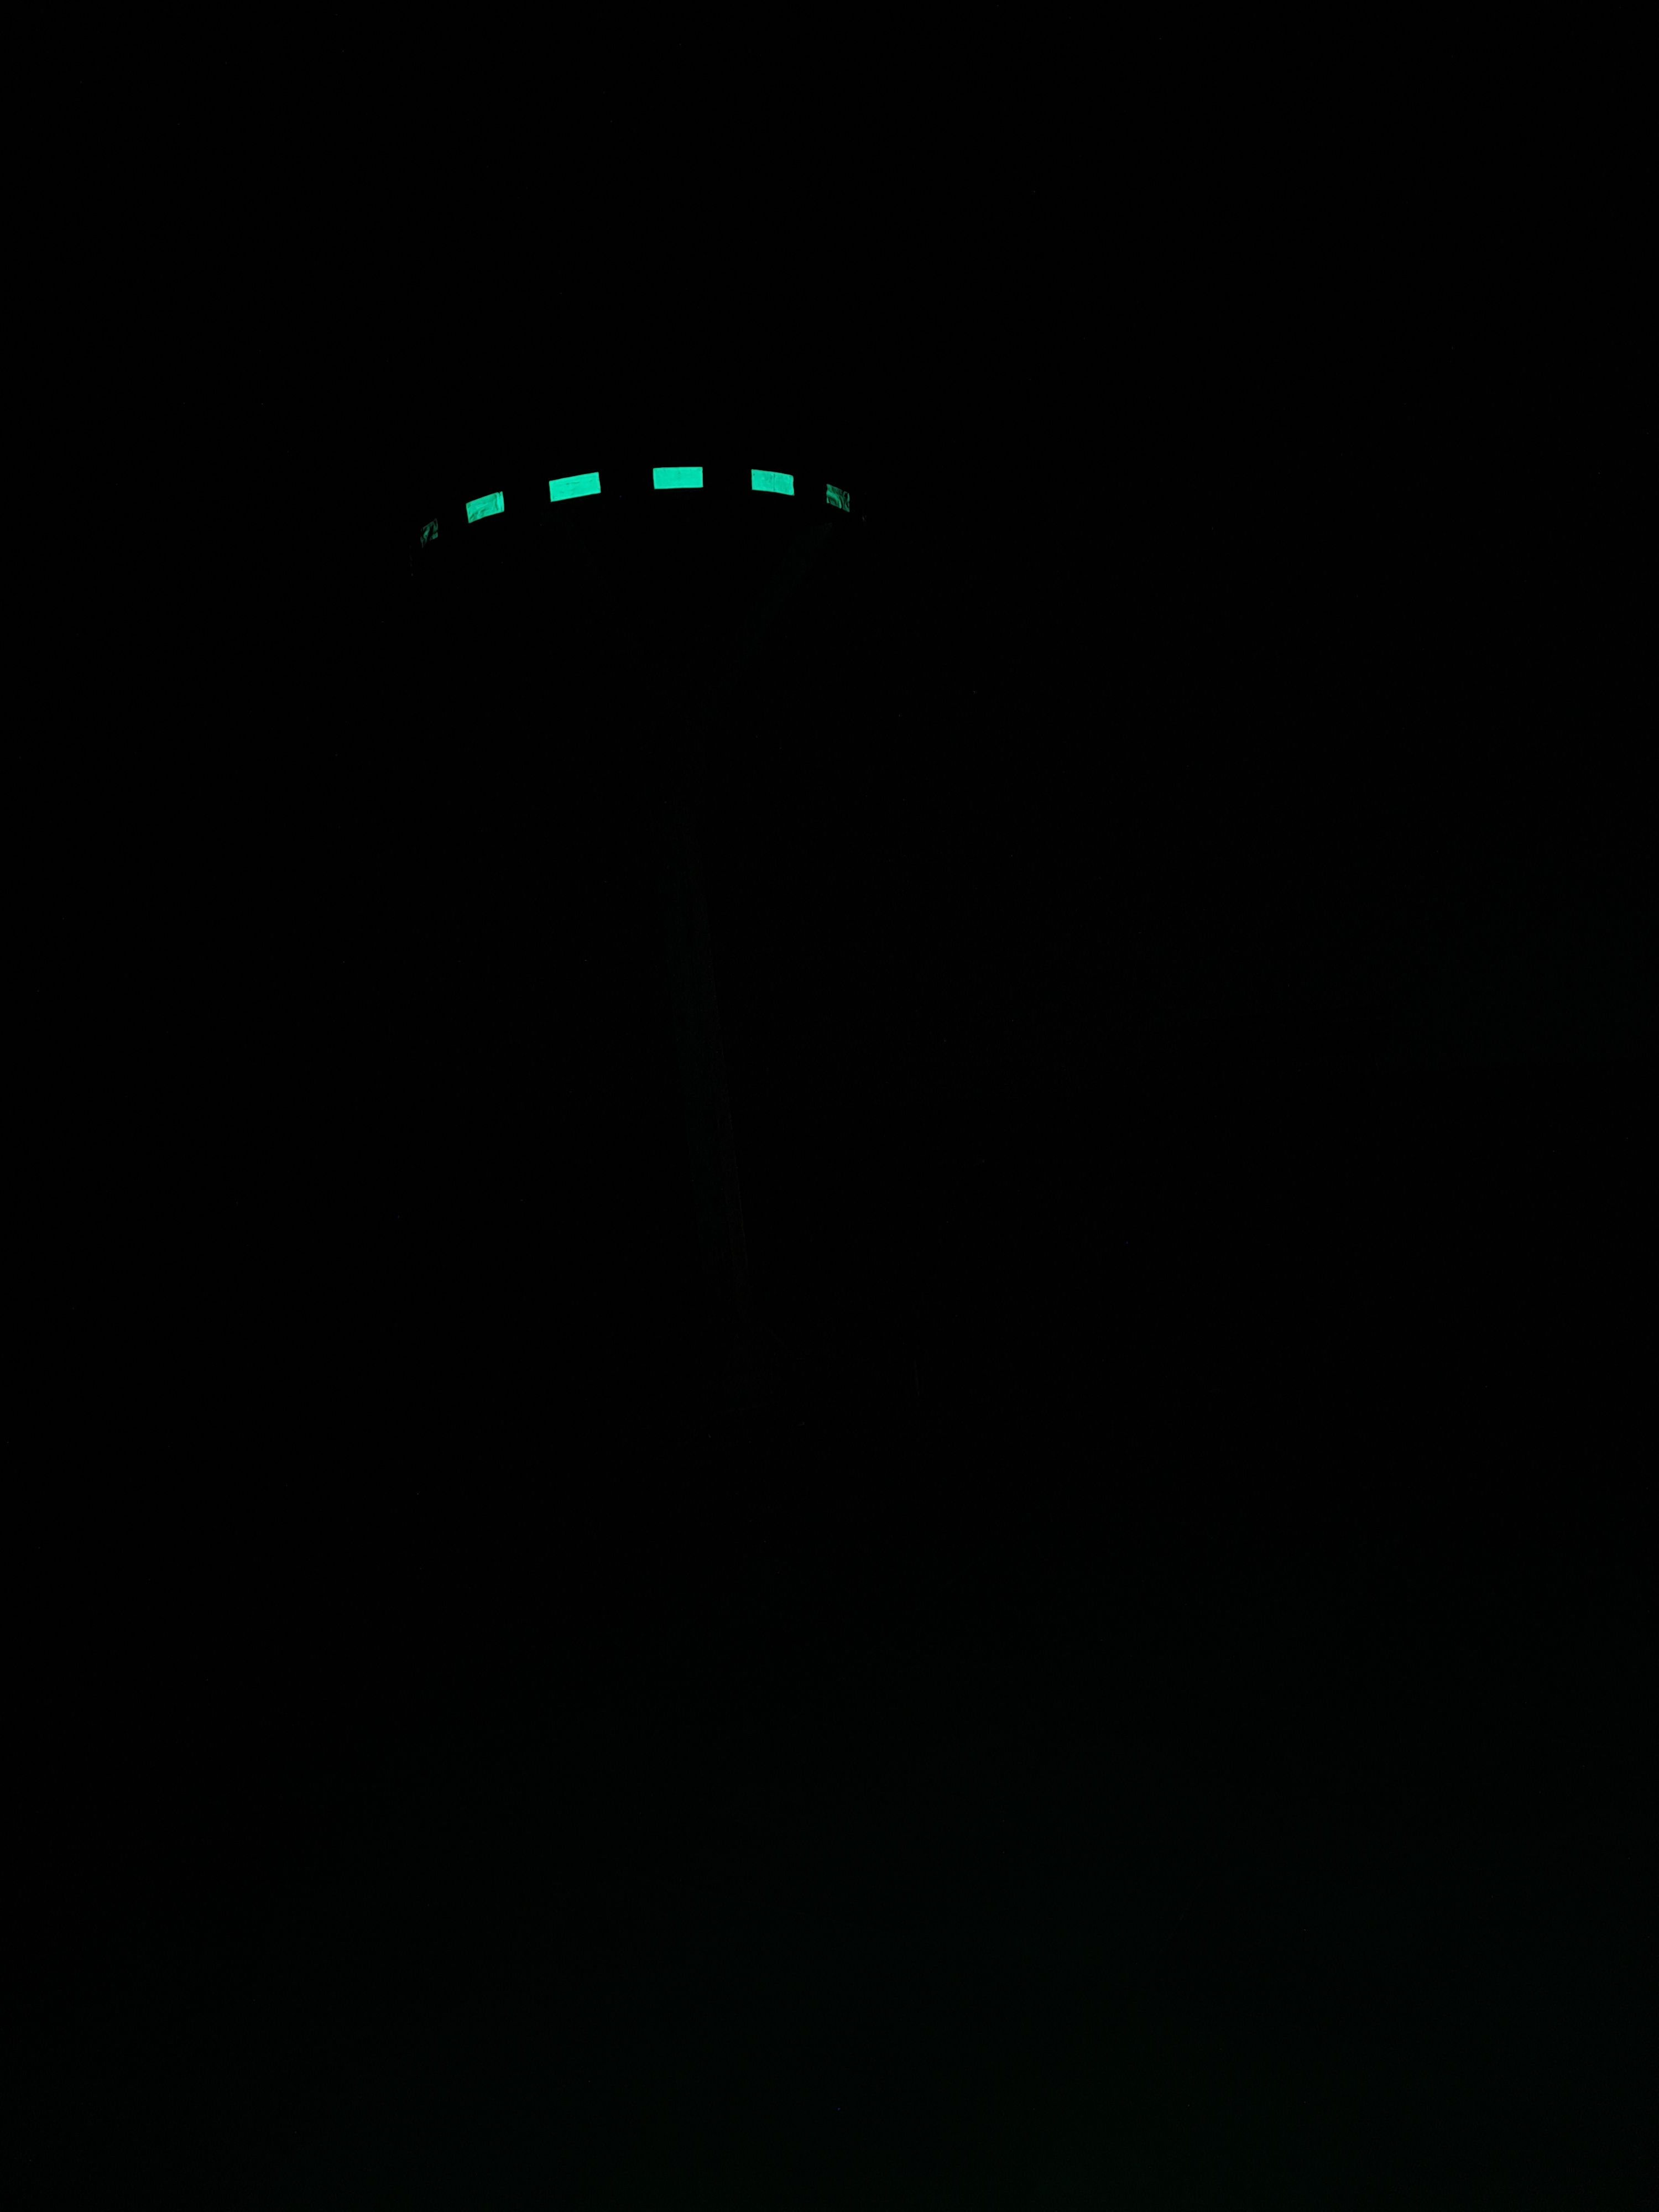hoop: (416, 465, 850, 545)
